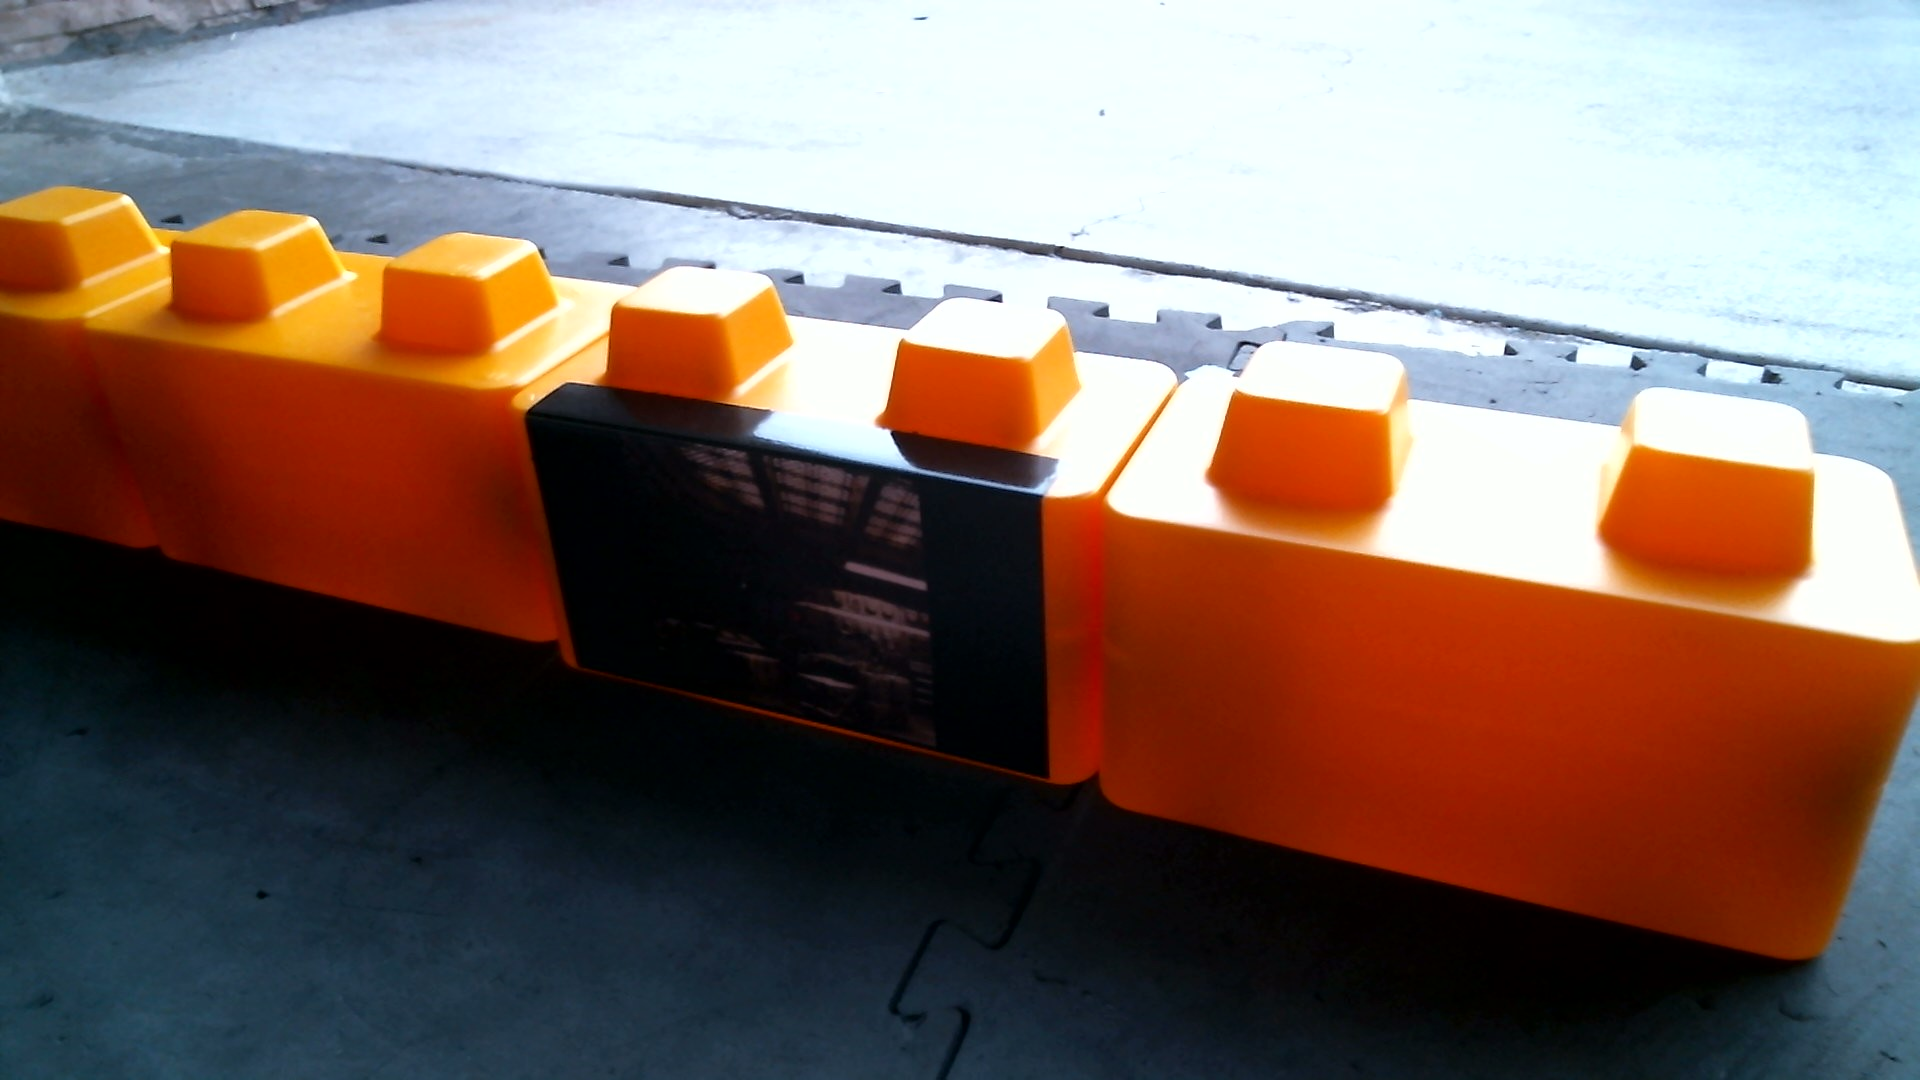center: (91, 164, 1920, 1006)
